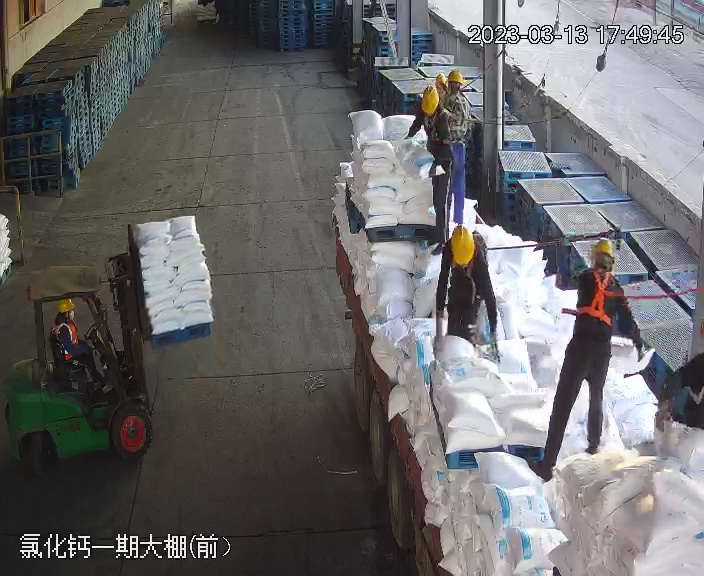belt: (571, 268, 624, 322), (462, 222, 491, 272), (421, 108, 451, 141)
head: (570, 238, 624, 299), (442, 224, 492, 281), (418, 87, 457, 129), (53, 298, 84, 339), (448, 226, 476, 265)
helmet: (449, 226, 476, 265), (589, 238, 615, 263), (419, 86, 440, 114), (445, 69, 463, 85), (432, 73, 449, 88), (58, 298, 75, 312)
people: (533, 234, 645, 475), (407, 82, 467, 238), (435, 224, 498, 354), (53, 297, 110, 394)
truck: (328, 139, 698, 574)
